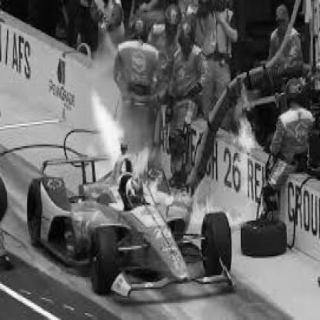Fire: (83, 85, 166, 207), (165, 188, 259, 230), (230, 102, 264, 170)
other: (112, 17, 208, 123), (263, 80, 314, 218), (264, 7, 303, 66), (1, 219, 9, 259)
